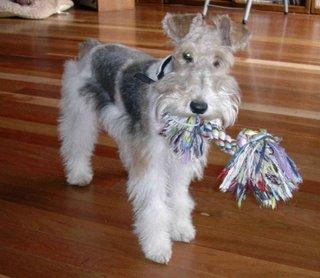wire-haired_fox_terrier: (57, 11, 253, 264)
